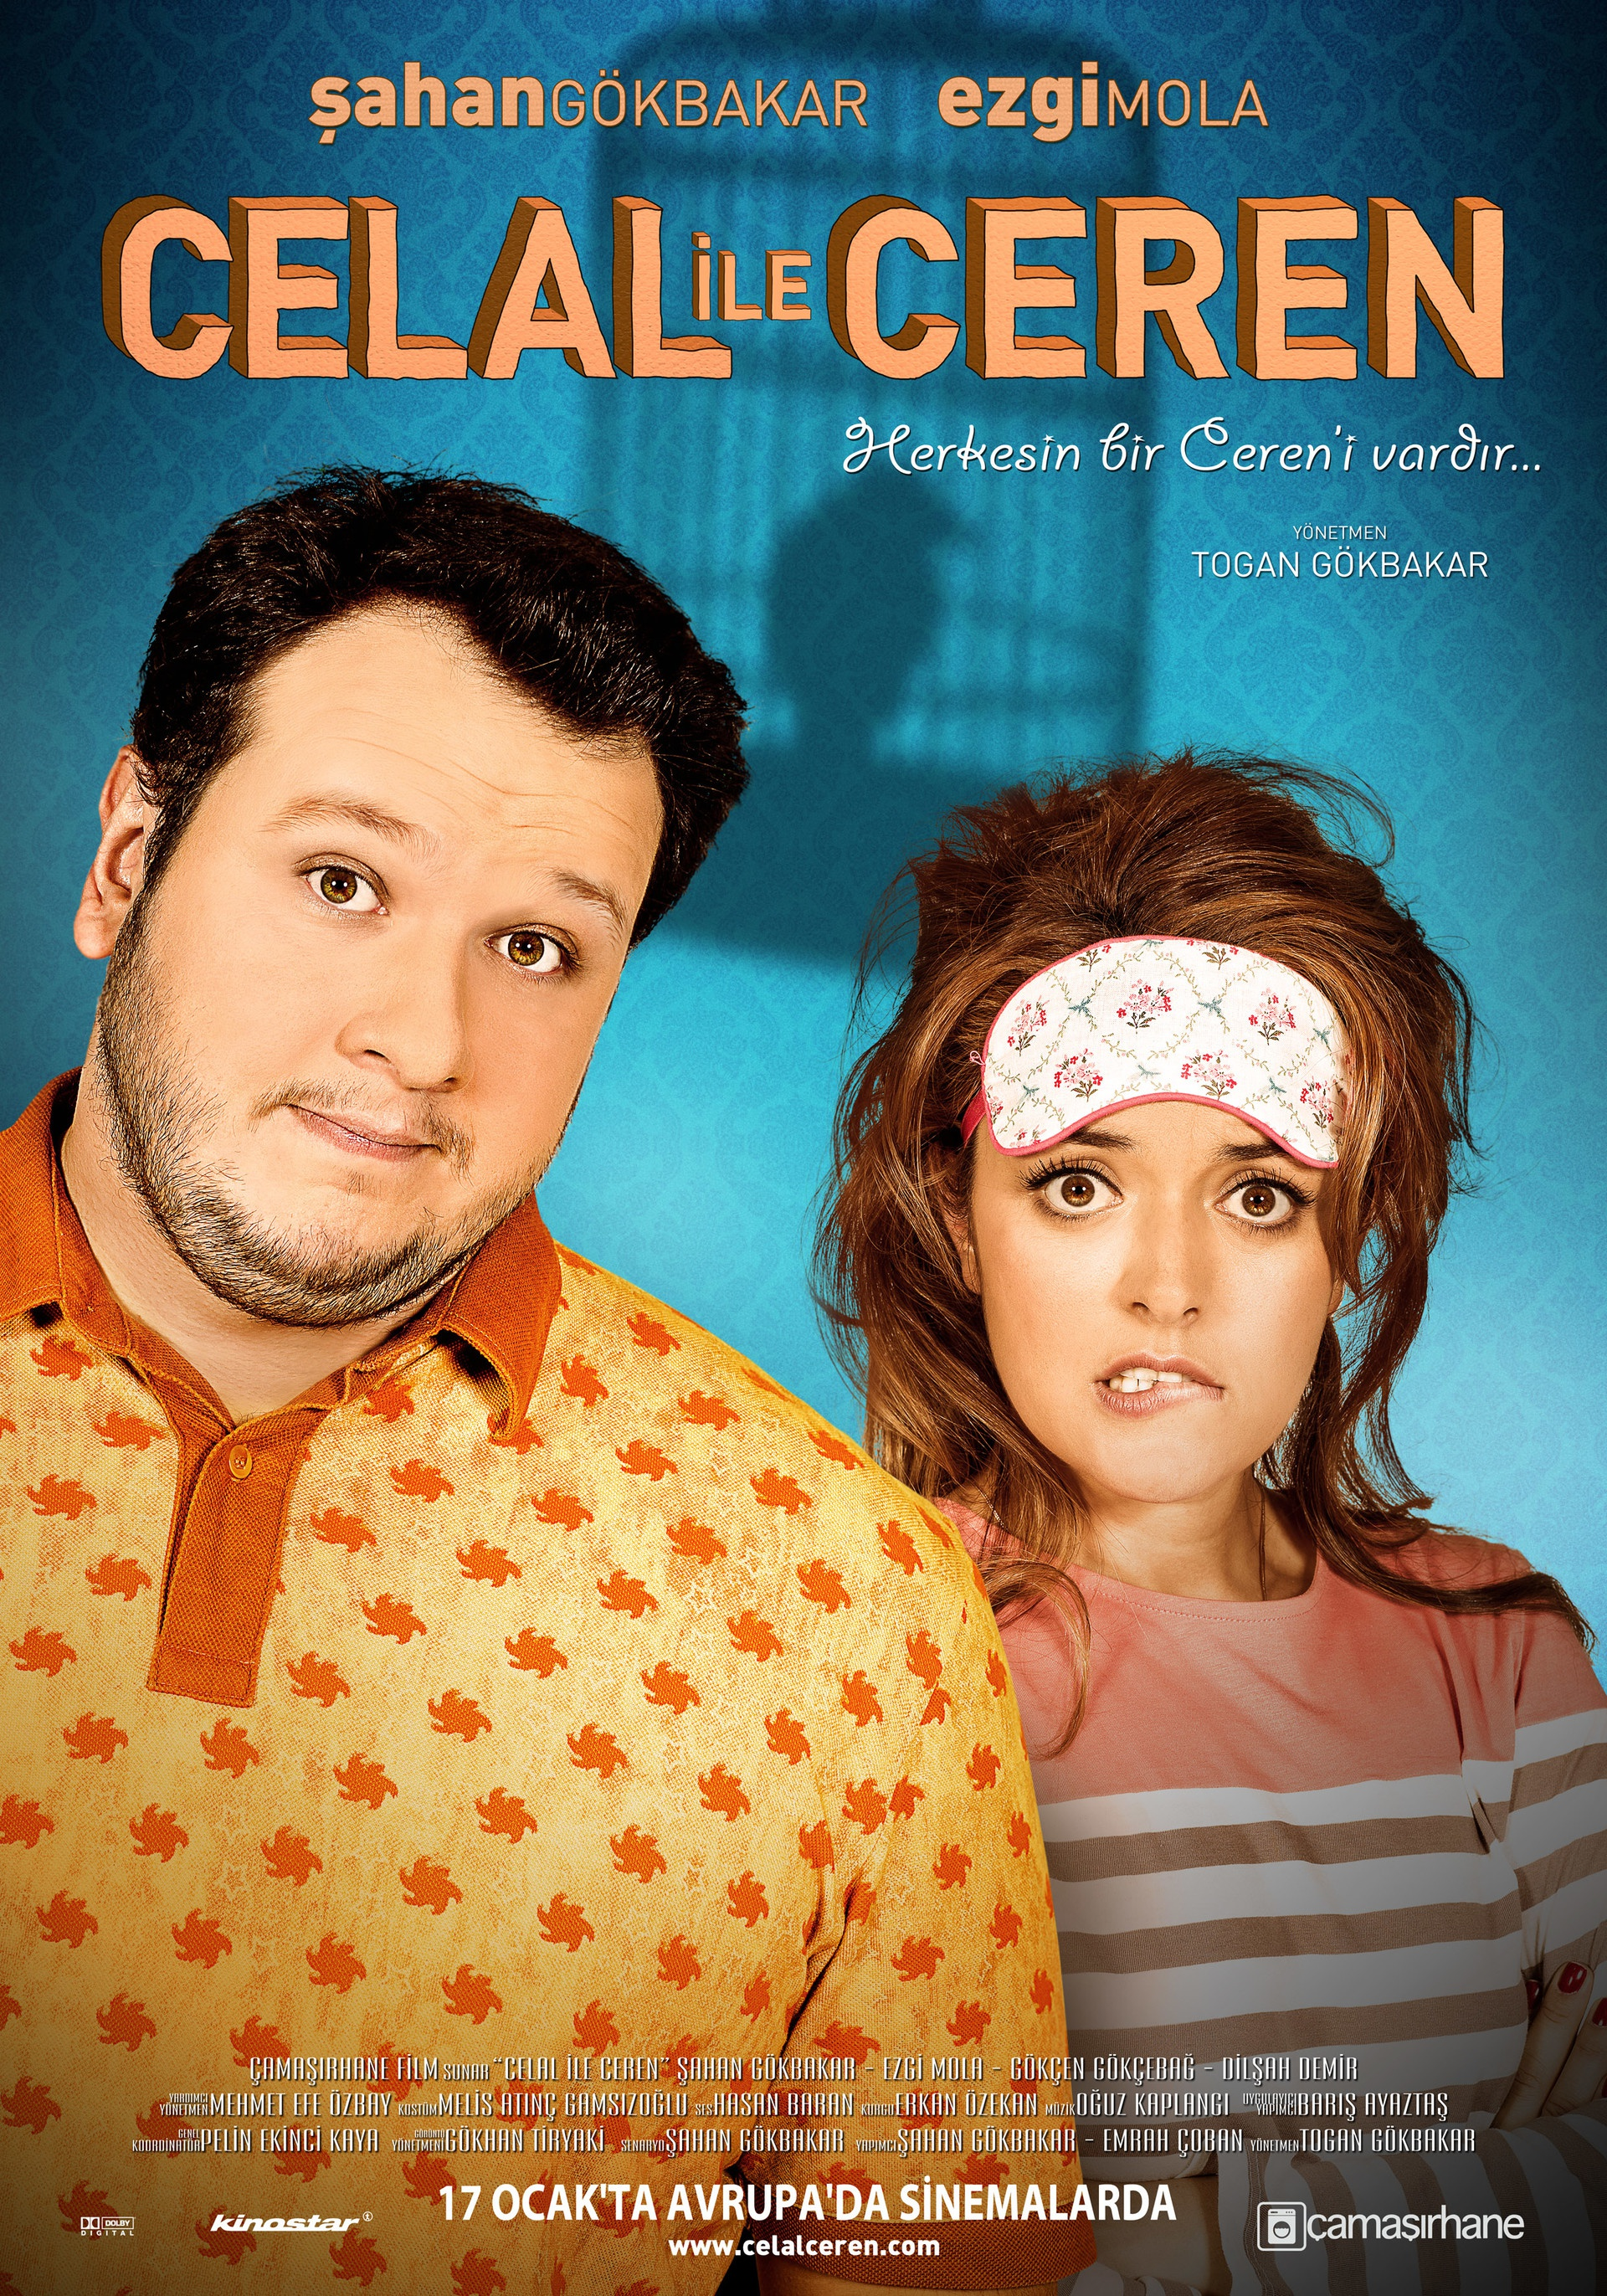bad: (110, 729, 668, 1288), (979, 1108, 1366, 1495)
